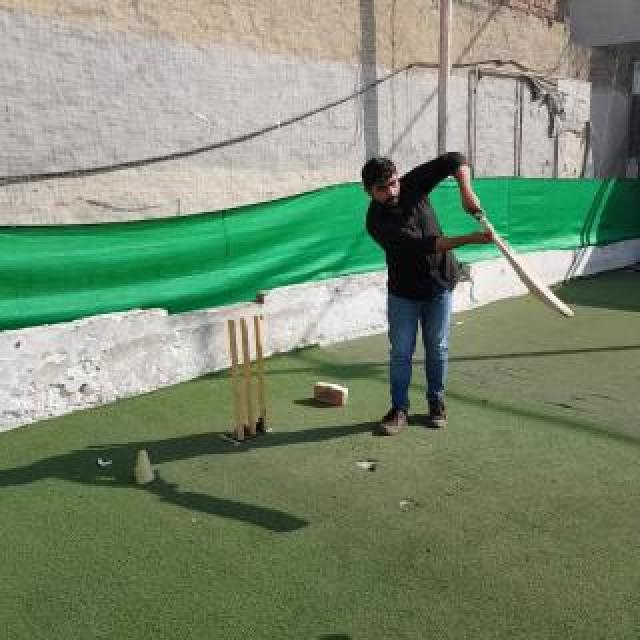bat: (470, 209, 574, 317)
